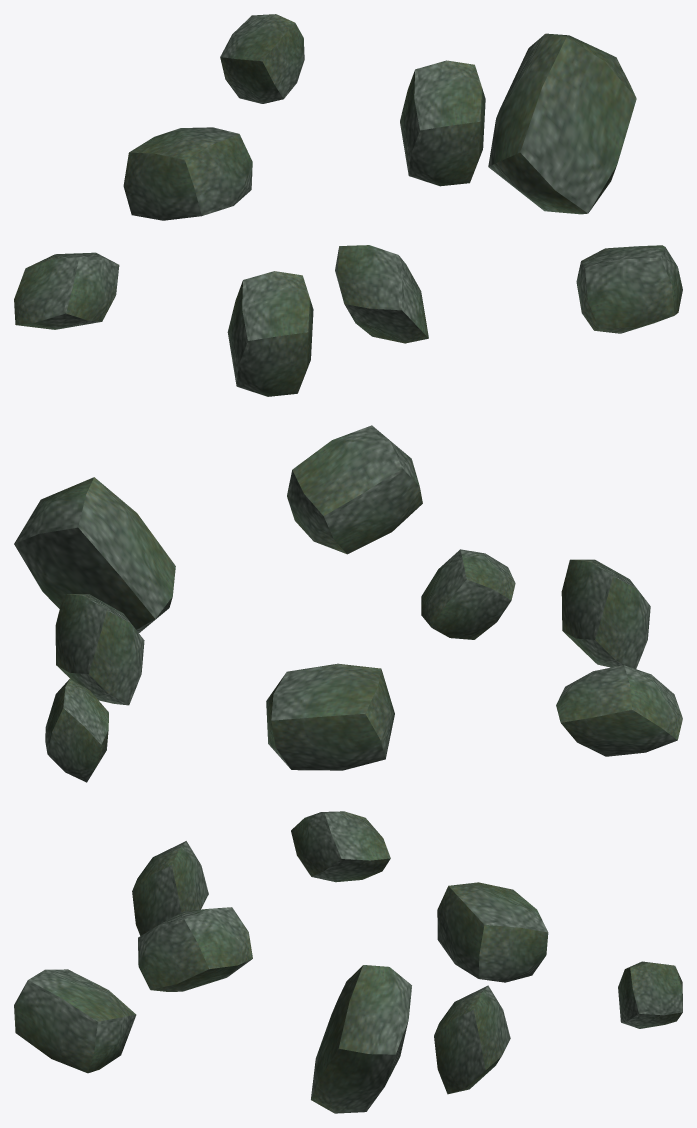
Rendered from ruins05.obj.
3 views of the same model, one above another, from view 1: azimuth 30°, elevation 25°; view 2: azimuth 150°, elevation 25°; view 3: azimuth 270°, elevation 25° (orthographic). The views are drawn at different scales.
Visible parts, largest first — view 1: Duplicate12, Duplicate10, Duplicate11, Duplicate13, Box06, Duplicate14, Duplicate15, Duplicate16; view 2: Duplicate12, Box06, Duplicate10, Duplicate15, Duplicate13, Duplicate11, Duplicate14, Duplicate16; view 3: Duplicate12, Box06, Duplicate10, Duplicate14, Duplicate11, Duplicate15, Duplicate13, Duplicate16.
Boxes of the visible parts, x1,y1,x2,y2 form: Duplicate12: (488,33,636,214); Duplicate10: (123,127,252,220); Duplicate11: (400,60,485,186); Duplicate13: (227,271,313,396); Box06: (576,245,682,333); Duplicate14: (335,245,428,343); Duplicate15: (14,252,119,329); Duplicate16: (220,14,304,103); Duplicate12: (14,477,175,632); Box06: (287,425,422,554); Duplicate10: (266,663,394,770); Duplicate15: (556,665,682,756); Duplicate13: (561,559,650,668); Duplicate11: (55,594,144,705); Duplicate14: (421,549,515,639); Duplicate16: (45,679,108,782); Duplicate12: (311,965,411,1113); Box06: (14,969,136,1073); Duplicate10: (437,882,548,982); Duplicate14: (138,907,252,991); Duplicate11: (434,985,510,1094); Duplicate15: (291,811,390,882); Duplicate13: (132,841,208,935); Duplicate16: (618,961,682,1028).
Bounding box in the file's own units: 61.7 × 16.32 × 62.43.
